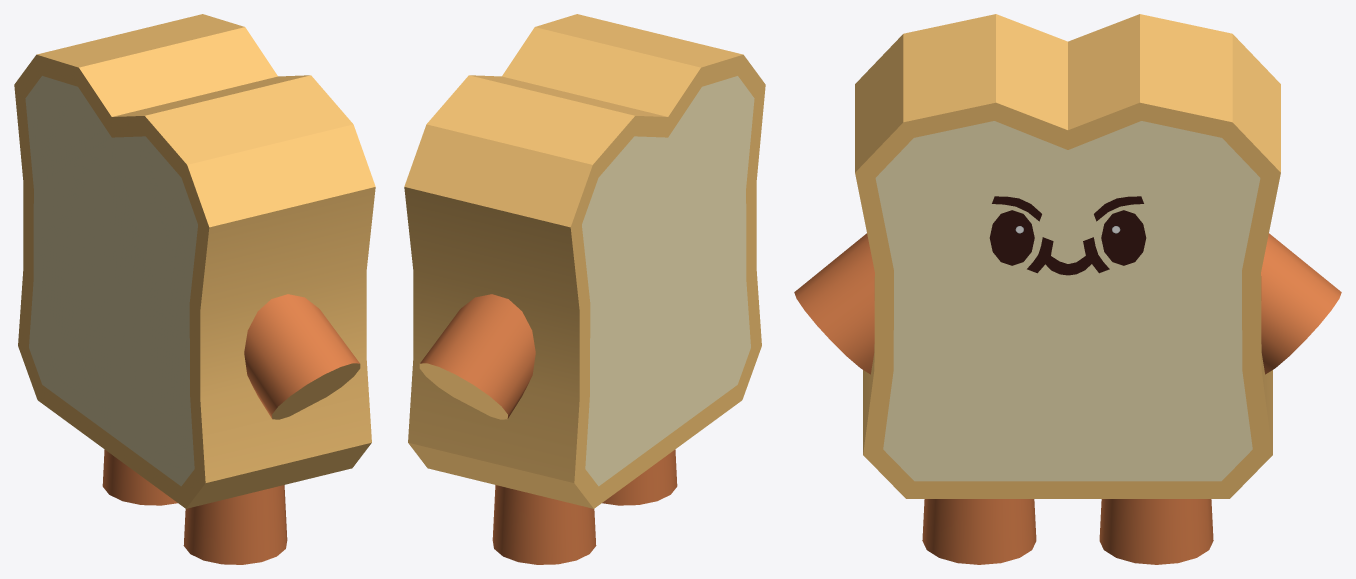
The model's file is bread.fbx.
3 renders of one model, left to right at view 1: azimuth 30°, elevation 25°; view 2: azimuth 150°, elevation 25°; view 3: azimuth 270°, elevation 25°, orthographic. The views are drawn at different scales.
Visible parts, largest first — view 1: bread; view 2: bread; view 3: bread.
Part boxes in pixels (x1=…): bread: x1=14, y1=14, x2=375, y2=564; bread: x1=404, y1=14, x2=765, y2=564; bread: x1=794, y1=14, x2=1341, y2=564.
Size of the model in its own units: 160 by 401 by 412.
1 material, 1 textured.
